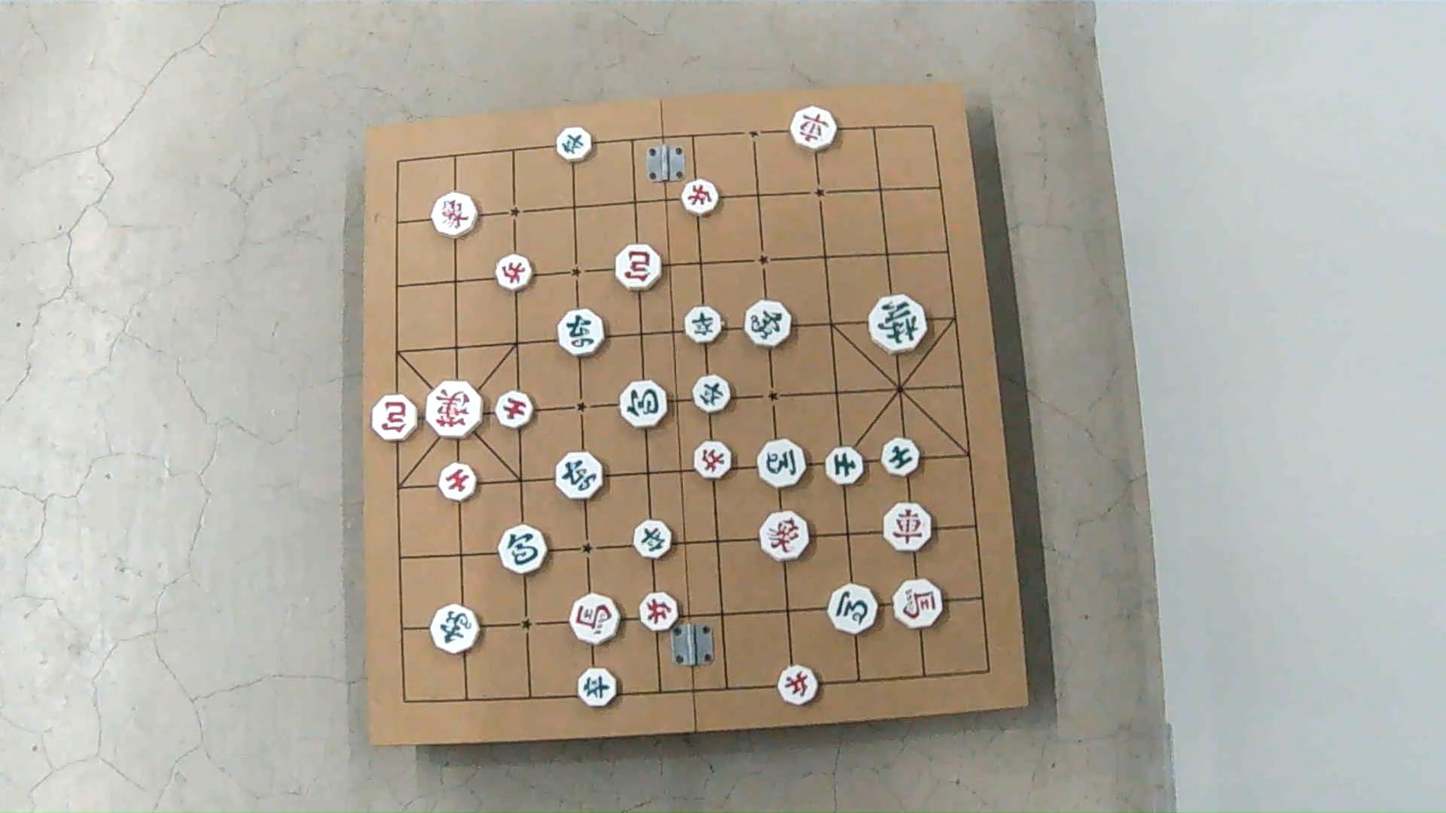cha_green: (554, 451, 602, 499), (556, 309, 603, 358)
cha_red: (883, 504, 930, 553), (791, 105, 837, 149)
jol_green: (576, 668, 616, 707), (633, 521, 671, 559), (694, 376, 732, 414), (681, 309, 719, 346), (555, 126, 591, 161)
jol_red: (780, 665, 819, 705), (640, 592, 678, 631), (695, 440, 733, 478), (682, 178, 718, 215), (494, 253, 530, 290)
ma_green: (830, 586, 880, 635), (758, 438, 806, 488)
ma_red: (572, 594, 621, 644), (893, 581, 942, 629)
po_green: (497, 525, 545, 573), (619, 381, 667, 428)
po_red: (369, 398, 416, 444), (617, 245, 664, 291)
sa_green: (826, 445, 865, 484), (880, 438, 917, 477)
sa_red: (441, 461, 480, 498), (495, 390, 532, 428)
sang_green: (431, 604, 480, 652), (747, 302, 794, 349)
sang_red: (761, 511, 810, 561), (431, 190, 477, 237)
wang_green: (868, 295, 925, 352)
wang_red: (427, 381, 484, 438)
